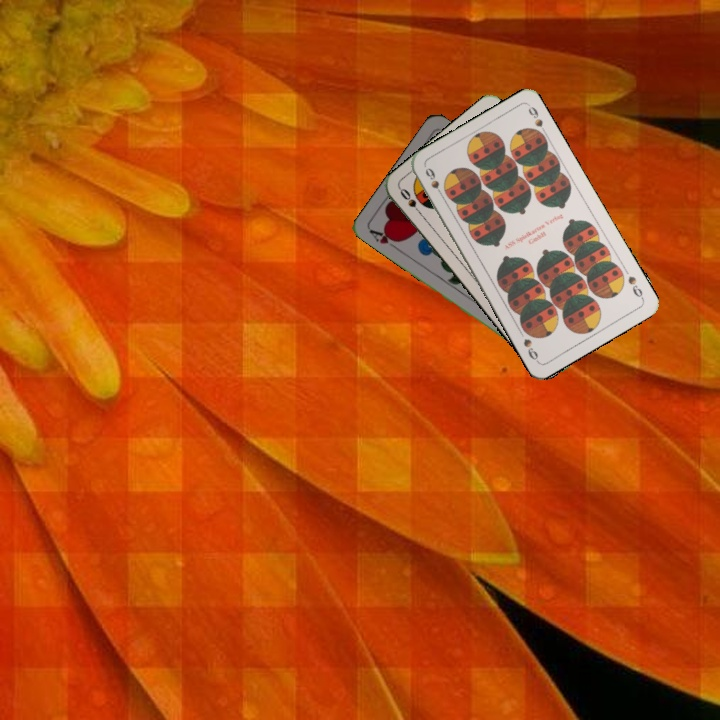HA: (365, 225, 402, 253)
S9: (421, 164, 447, 201), (624, 272, 646, 302)
SO: (396, 184, 426, 219)
